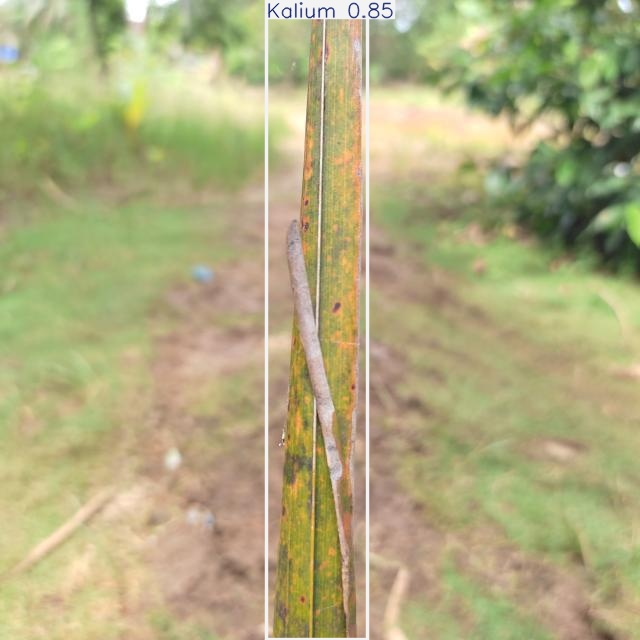Kalium: (267, 0, 367, 640)
